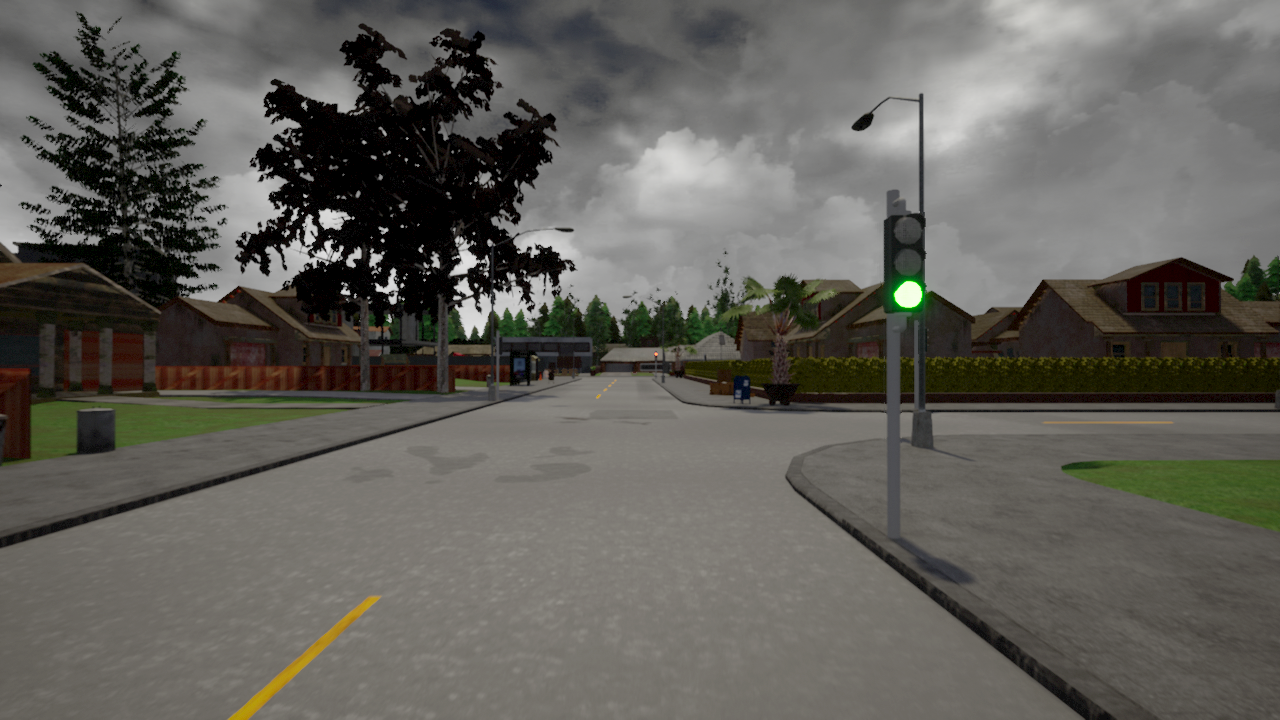green: (881, 209, 927, 312)
